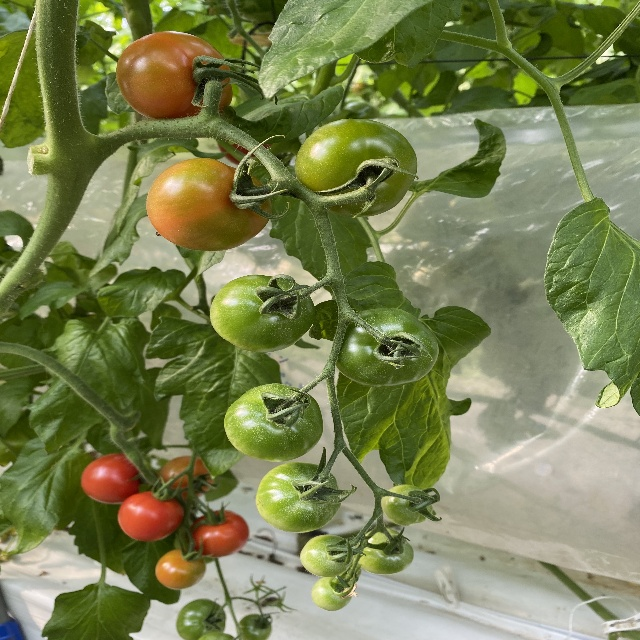l_fully_ripened: (117, 490, 184, 542), (80, 453, 141, 505), (187, 510, 250, 558)
l_green: (294, 117, 419, 217), (332, 309, 439, 388), (208, 274, 315, 352), (223, 383, 324, 461), (255, 461, 342, 533), (355, 529, 415, 575), (300, 534, 354, 577), (381, 484, 433, 527), (175, 599, 226, 640), (311, 577, 354, 612), (237, 614, 272, 640)
l_half_ripened: (146, 158, 273, 252), (116, 32, 233, 120), (156, 456, 214, 498), (154, 549, 207, 589)
